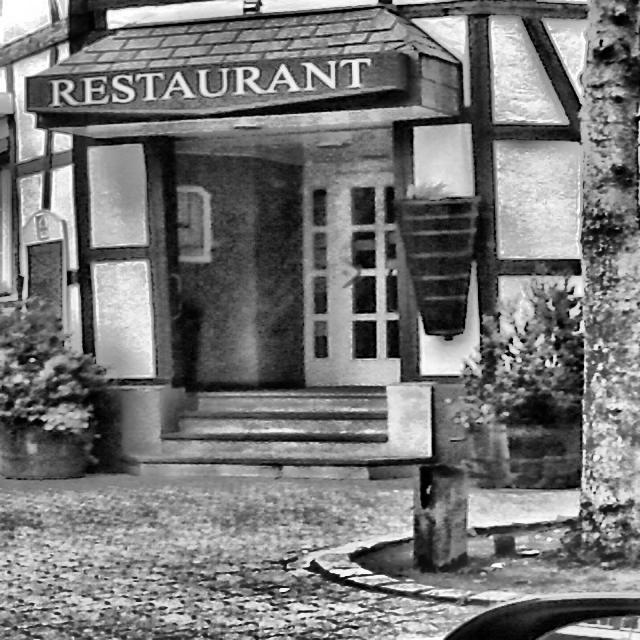escada: (122, 394, 425, 479)
